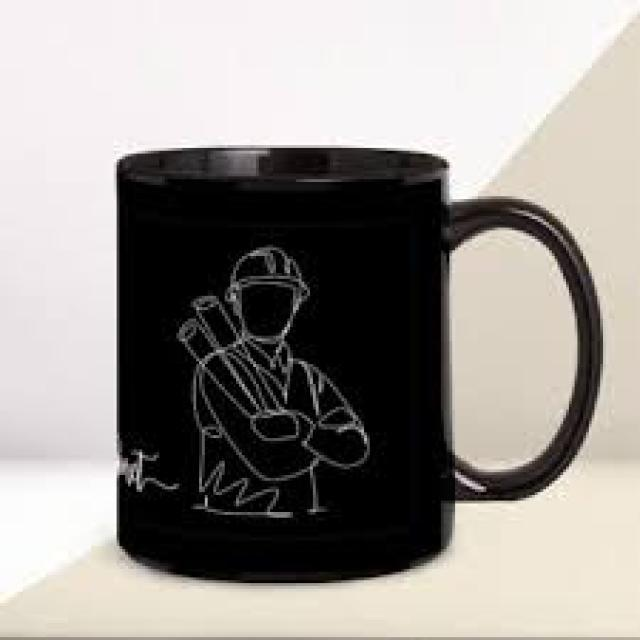taza: (113, 141, 604, 583)
